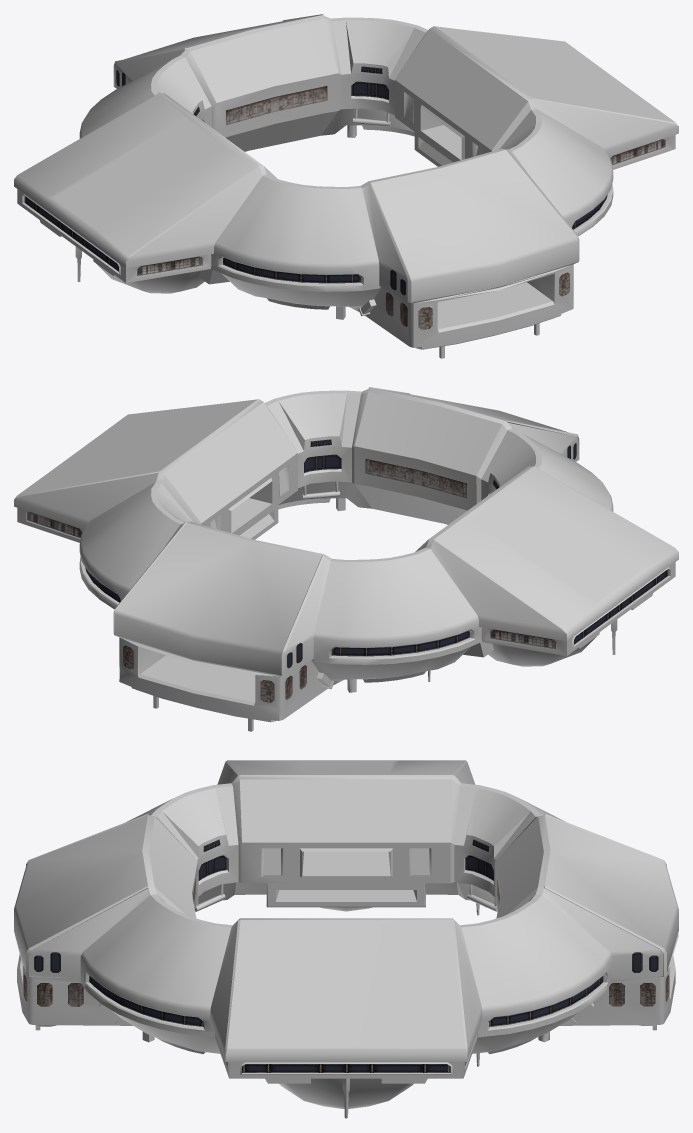
Rendered from spacestation_outpost_tradefed_l1.fbx.
The picture shows the model from 3 angles, top to bottom: view 1: azimuth 30°, elevation 25°; view 2: azimuth 150°, elevation 25°; view 3: azimuth 270°, elevation 25°; orthographic projection. The views are drawn at different scales.
Parts seen in each view (by area): view 1: mesh_node; view 2: mesh_node; view 3: mesh_node.
Boxes of the visible parts, box(x1,y1,x2,y2) form: mesh_node: box(14, 14, 678, 358); mesh_node: box(14, 387, 678, 731); mesh_node: box(14, 760, 678, 1118).
Size of the model in its own units: 299 by 75.25 by 289.
